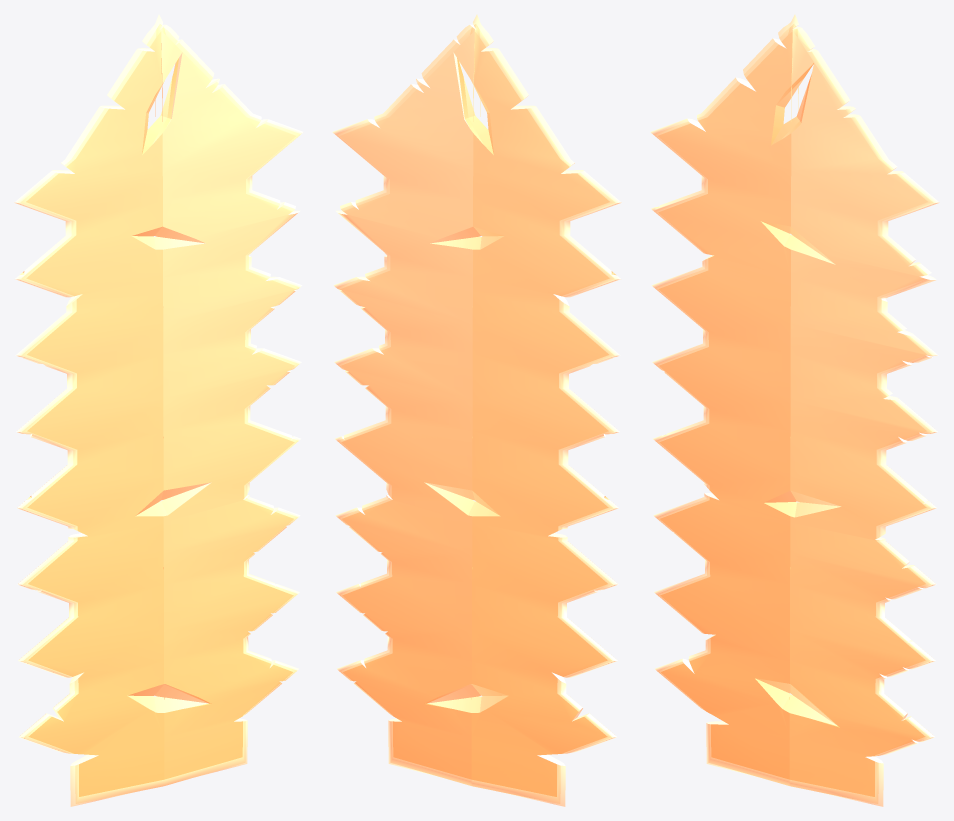
File: wood_blade_scratched_071.glb
3 renders of one model, left to right at view 1: azimuth 30°, elevation 25°; view 2: azimuth 150°, elevation 25°; view 3: azimuth 330°, elevation 25°, orthographic.
Visible parts, largest first — view 1: wood_blade_scratched.071; view 2: wood_blade_scratched.071; view 3: wood_blade_scratched.071.
Part boxes in pixels (x1=…): wood_blade_scratched.071: x1=14, y1=14, x2=303, y2=806; wood_blade_scratched.071: x1=332, y1=14, x2=621, y2=806; wood_blade_scratched.071: x1=650, y1=14, x2=939, y2=806.
Bounding box in the file's own units: 4.48 × 11.41 × 0.2879.
Materials: 1 (1 with a texture image).
